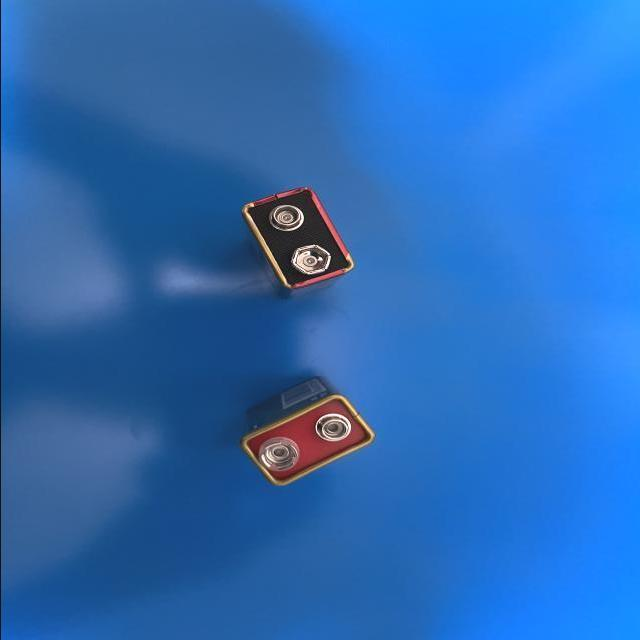9V: (238, 376, 373, 486), (237, 187, 353, 301)
